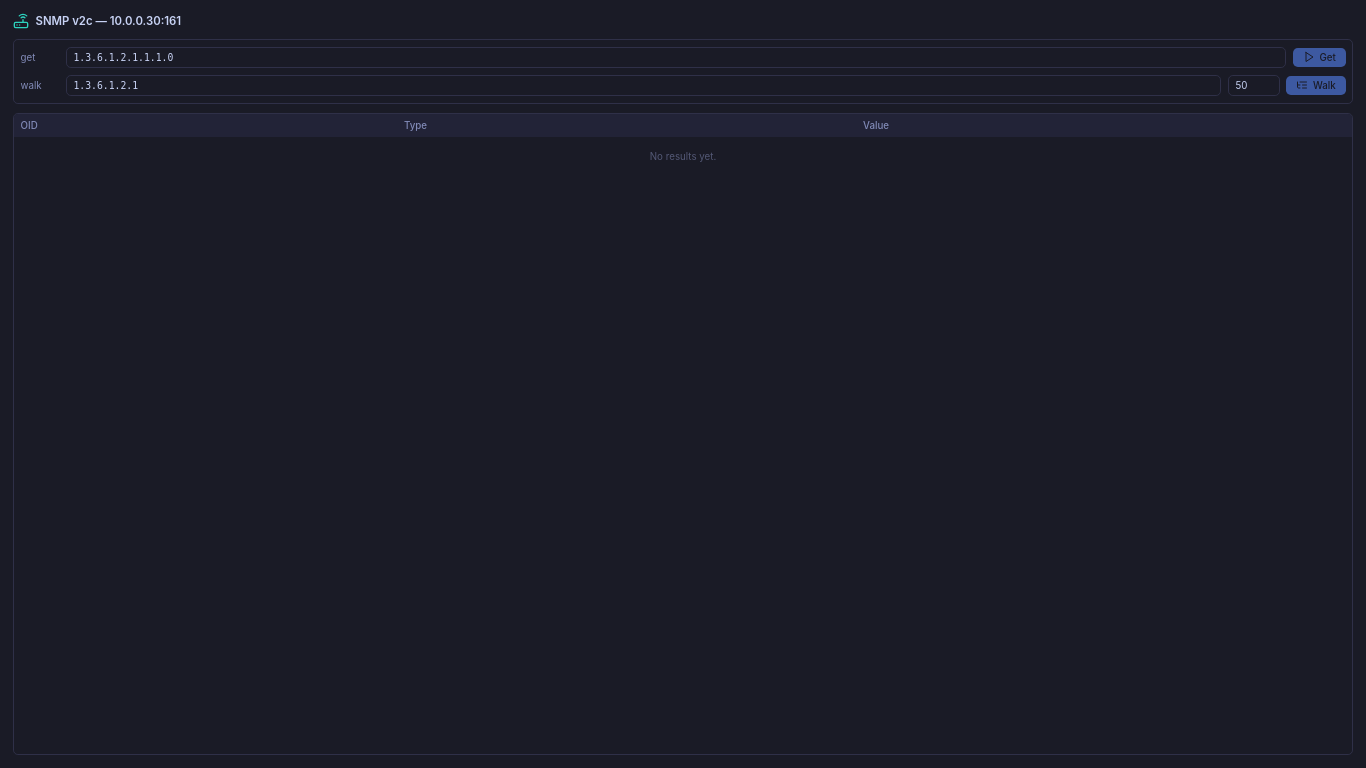
Scenario: SnmpBrowser › runs a WALK with the configured root OID and max vars
Expected: the heading "SNMP v2c — 10.0.0.30:161" is shown, [13,13,181,29]
Click the button "Walk" at (1316,85), box [1286,76,1346,95]
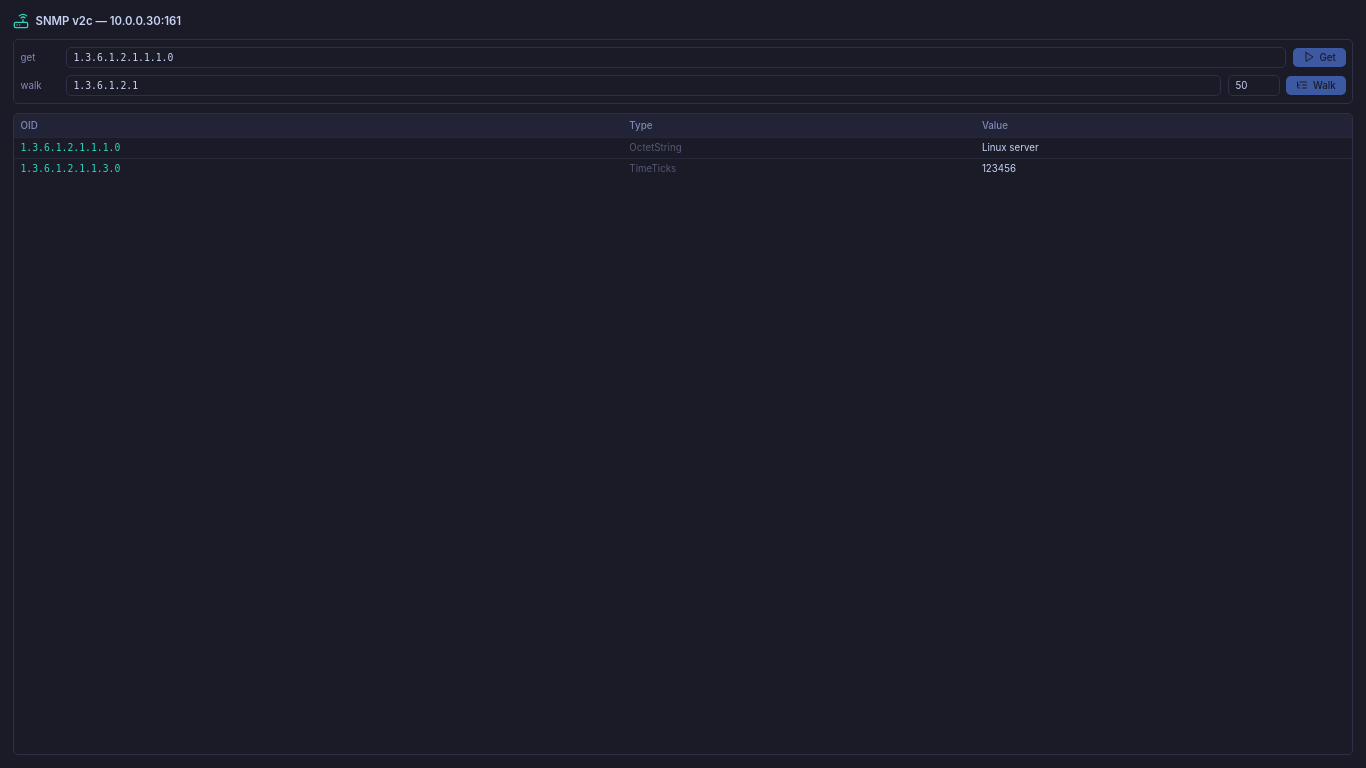
Expected: the text "123456" is shown, [975,158,1352,178]
Expected: the text "TimeTicks" is shown, [623,158,975,178]
